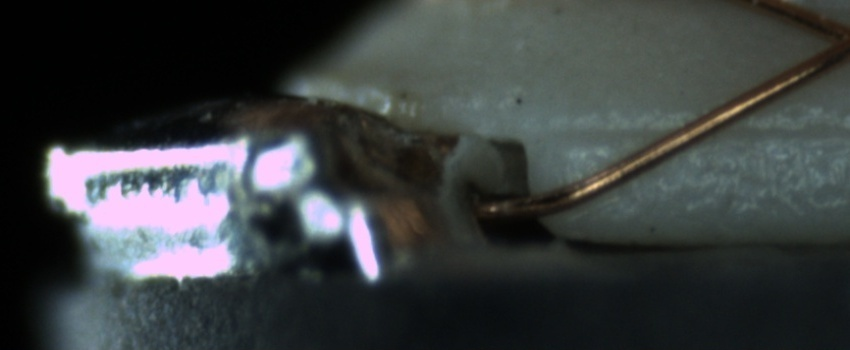CL: (802, 11, 850, 74)
DL: (555, 99, 846, 162)
